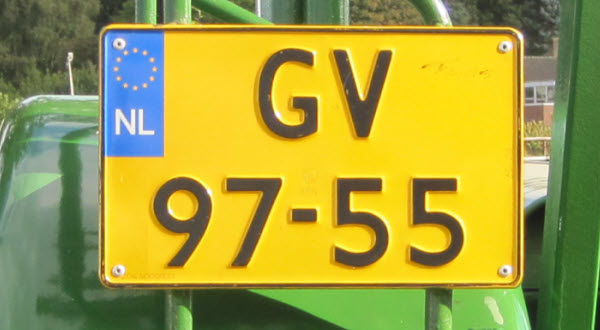license_plate: (100, 25, 522, 287)
